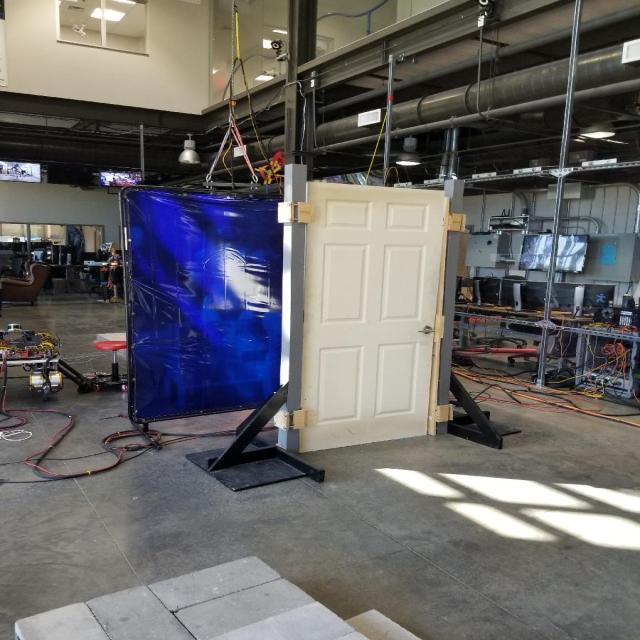door: (294, 177, 448, 463), (410, 324, 438, 338)
